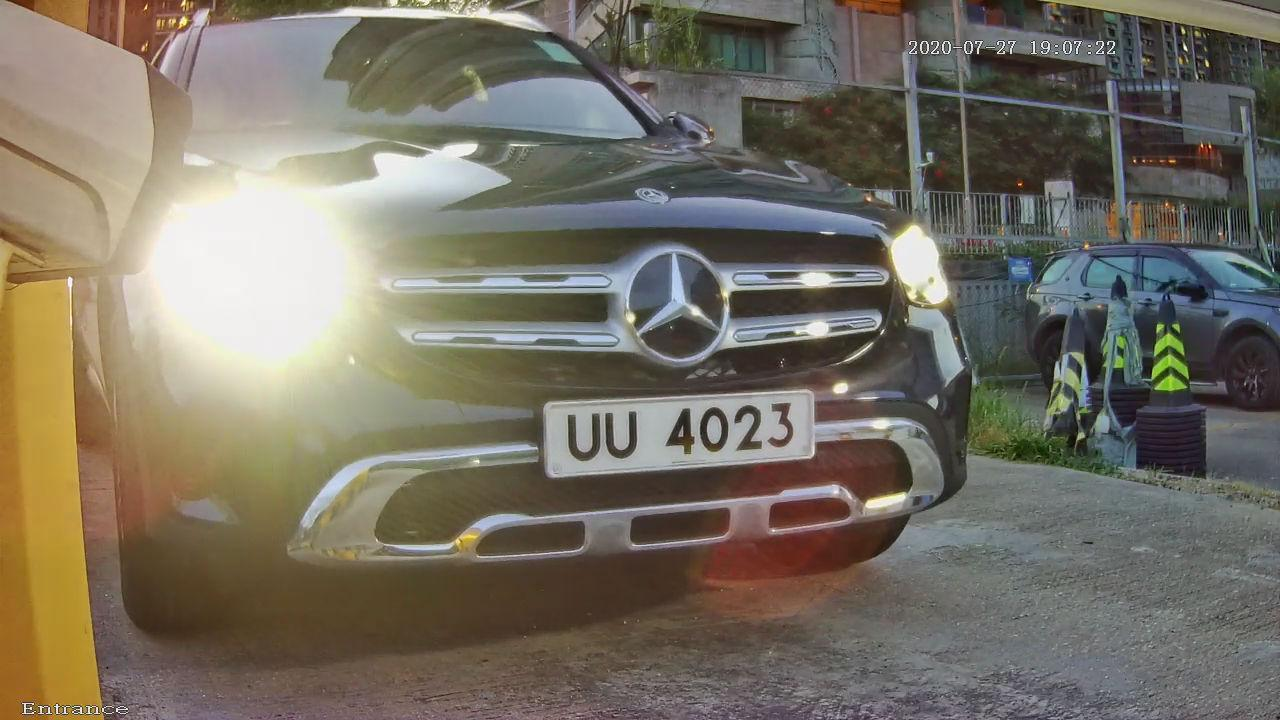privatecar: (86, 26, 978, 631)
